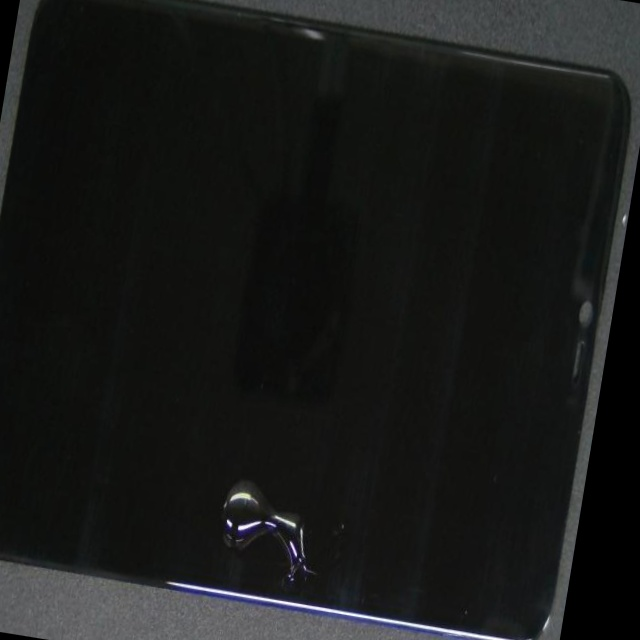oil: (79, 193, 513, 640)
